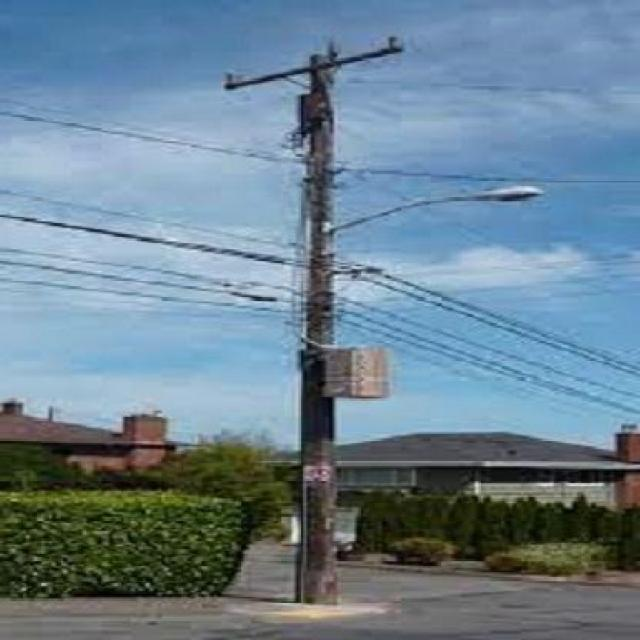pole: (214, 28, 406, 602)
